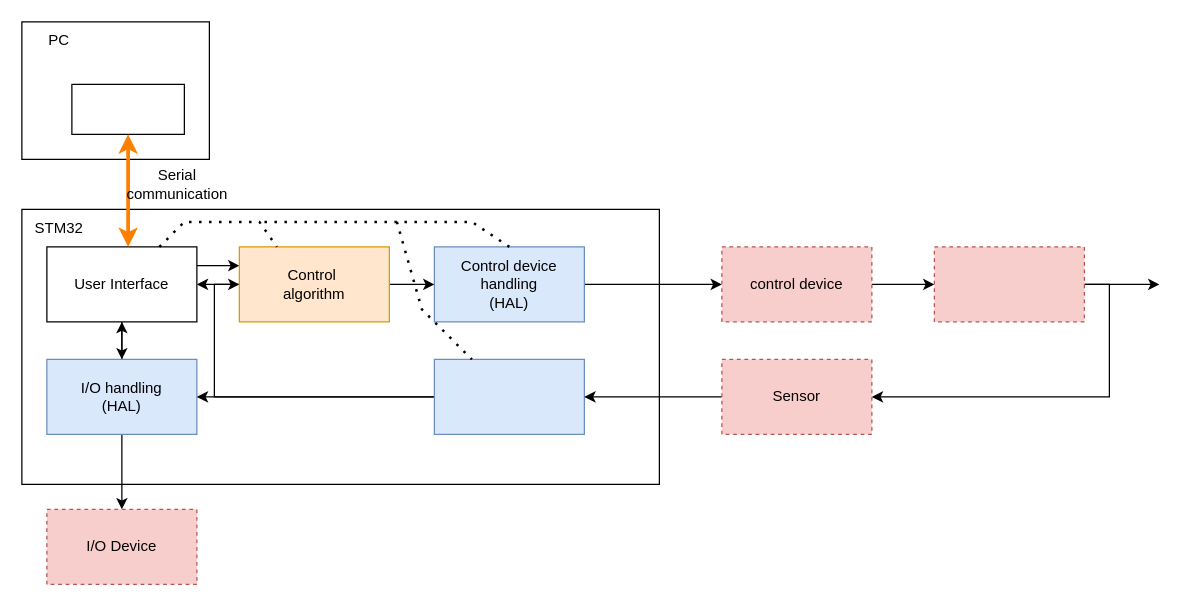
The diagram is 1191 pixels wide and 606 high, and some of its shapes have lost their labels. Each missing label, with the box of its shape:
Desktop App: (71, 83, 184, 134)
Process: (933, 246, 1084, 322)
Sensor handling (HAL/SCDlib): (433, 358, 584, 434)
